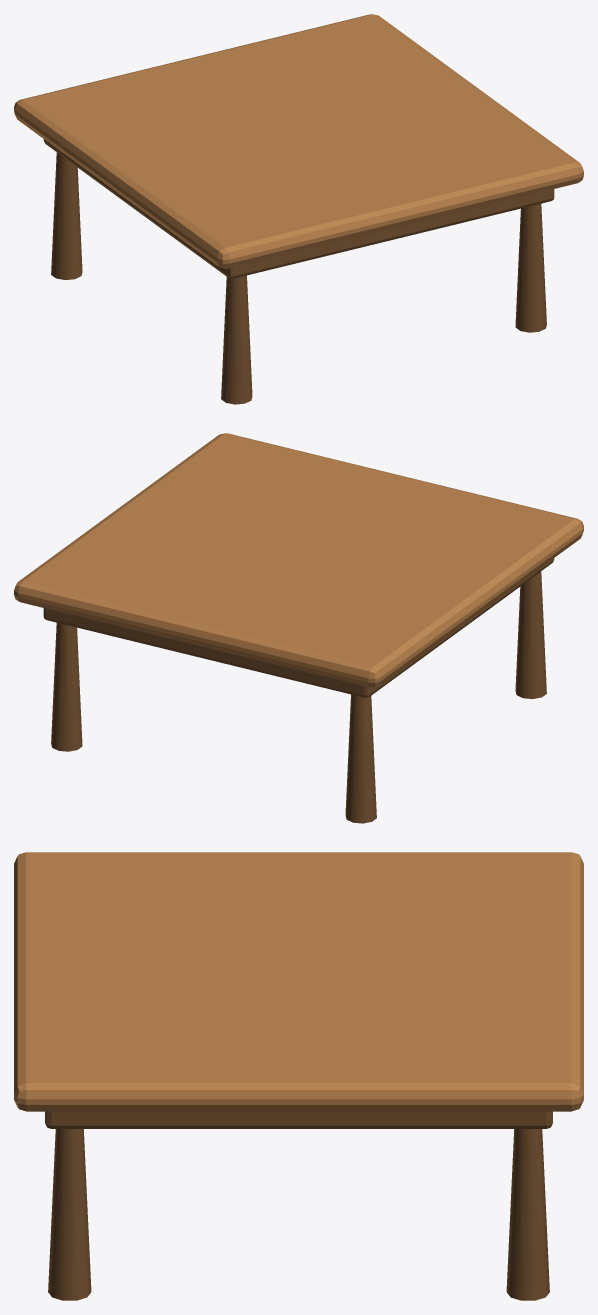
The model's file is mesa.glb.
3 views of the same model, one above another, from view 1: azimuth 30°, elevation 25°; view 2: azimuth 150°, elevation 25°; view 3: azimuth 270°, elevation 25° (orthographic). The views are drawn at different scales.
Parts seen in each view (by area): view 1: mesa; view 2: mesa; view 3: mesa.
Part boxes in pixels (bbox=[...]): mesa: bbox=[14, 14, 583, 404]; mesa: bbox=[14, 433, 583, 823]; mesa: bbox=[14, 852, 583, 1300].
Size of the model in its own units: 1.84 by 0.81 by 1.84.
